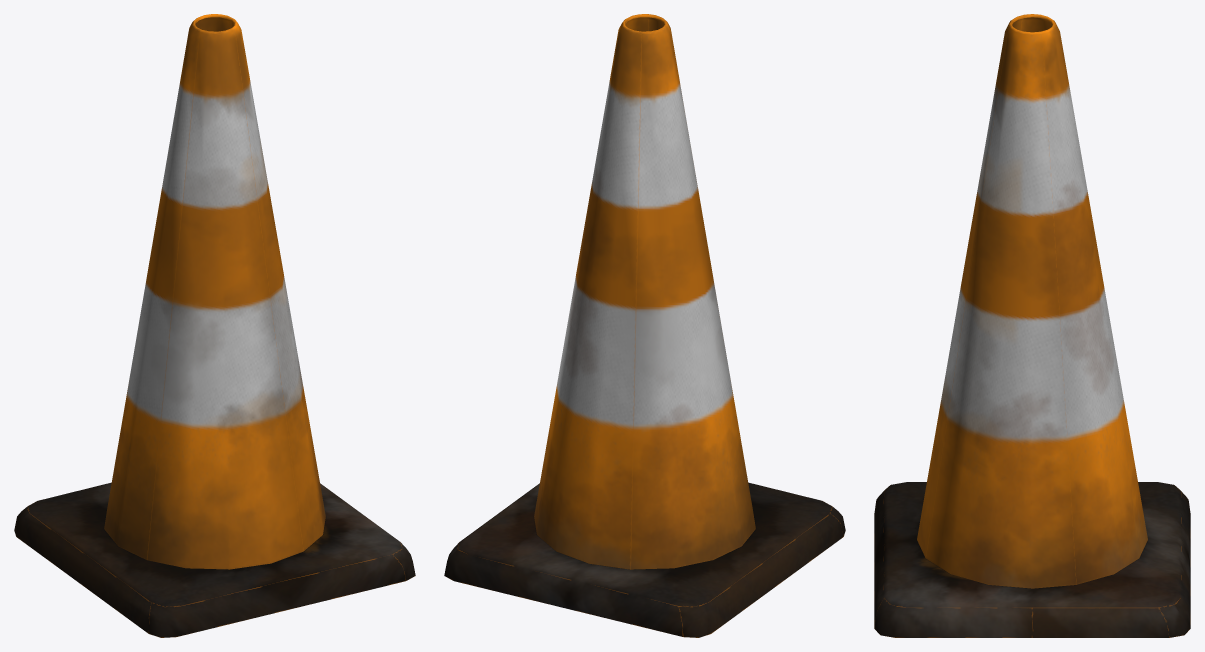
The model's file is o3_cono_stradale.glb.
3 renders of one model, left to right at view 1: azimuth 30°, elevation 25°; view 2: azimuth 150°, elevation 25°; view 3: azimuth 270°, elevation 25°, orthographic. The views are drawn at different scales.
Parts seen in each view (by area): view 1: sb_modello; view 2: sb_modello; view 3: sb_modello.
Boxes of the visible parts, <box> form: sb_modello: <box>14,14,415,637</box>; sb_modello: <box>444,14,845,637</box>; sb_modello: <box>874,14,1190,637</box>.
Bounding box in the file's own units: 0.2614 × 0.5 × 0.2614.
Materials: 1 (1 with a texture image).
